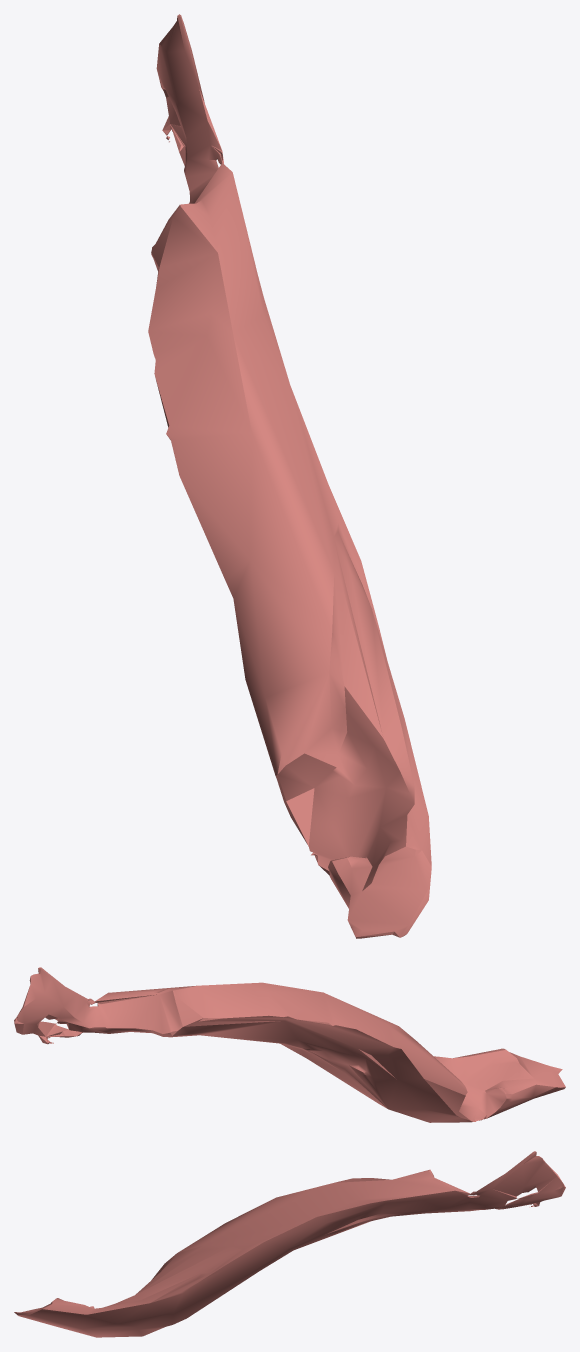
File: fma45971_fj1396.glb
3 views of the same model, one above another, from view 1: azimuth 30°, elevation 25°; view 2: azimuth 150°, elevation 25°; view 3: azimuth 270°, elevation 25° (orthographic). The views are drawn at different scales.
Visible parts, largest first — view 1: FMA45971_FJ1396; view 2: FMA45971_FJ1396; view 3: FMA45971_FJ1396.
Part boxes in pixels (bbox=[...]): FMA45971_FJ1396: bbox=[148, 14, 431, 938]; FMA45971_FJ1396: bbox=[14, 967, 565, 1122]; FMA45971_FJ1396: bbox=[14, 1151, 565, 1337].
Size of the model in its own units: 0.0271 by 0.0378 by 0.0769.
